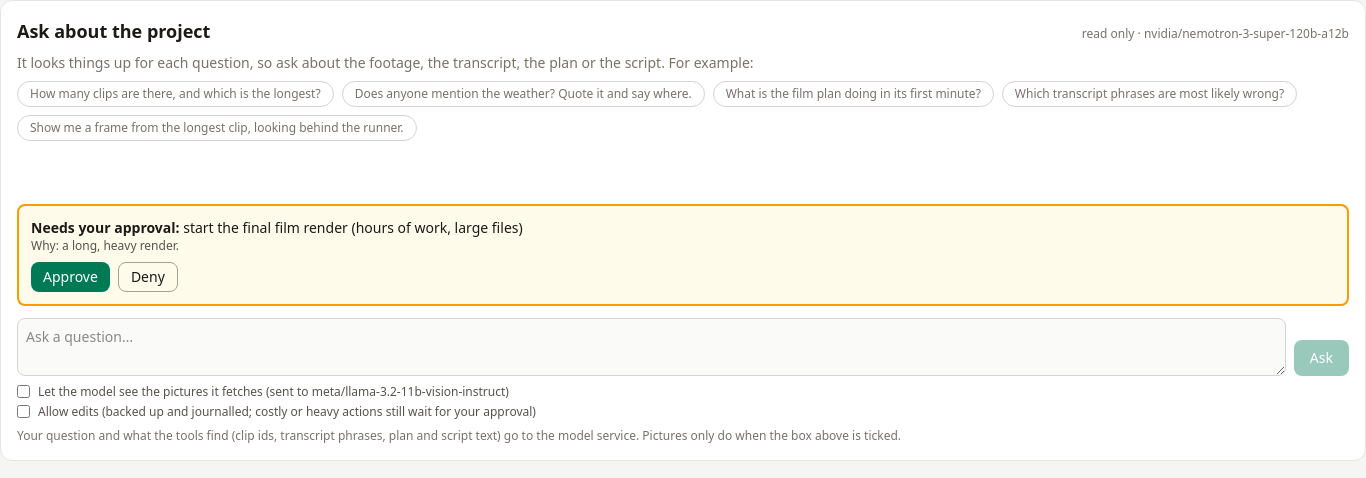
Test: AskPage › shows an approval that failed, and drops the stale card (it is gone on the server)
Click the button "Approve": (70, 277) left=31, top=262, right=110, bottom=292
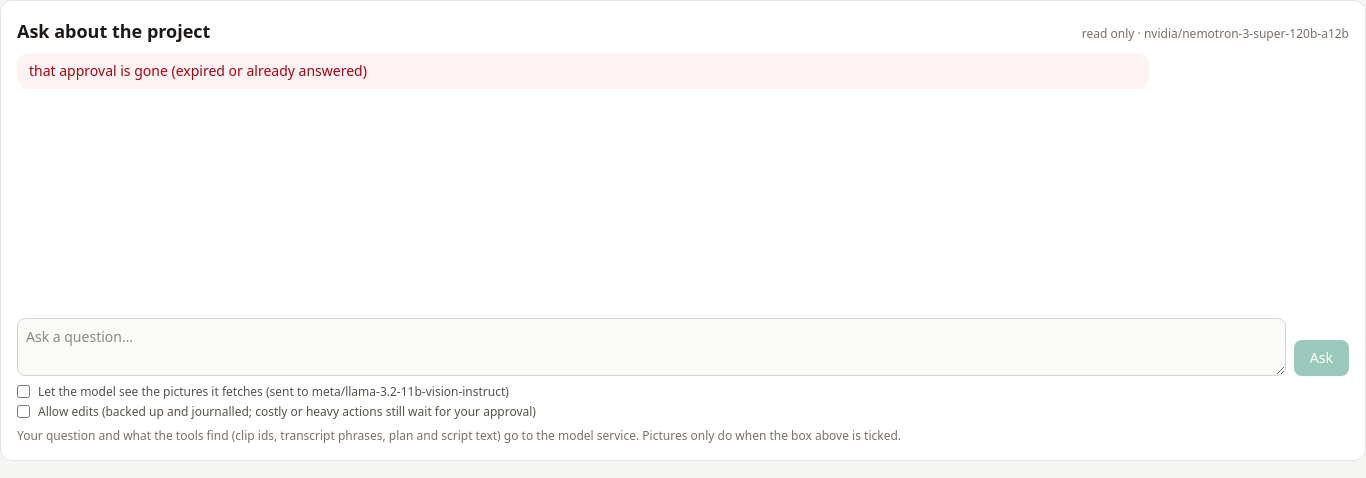
Check: the text "that approval is gone (expired or already answered)" is shown, box left=29, top=61, right=367, bottom=80
Check: the button "Approve" is gone
